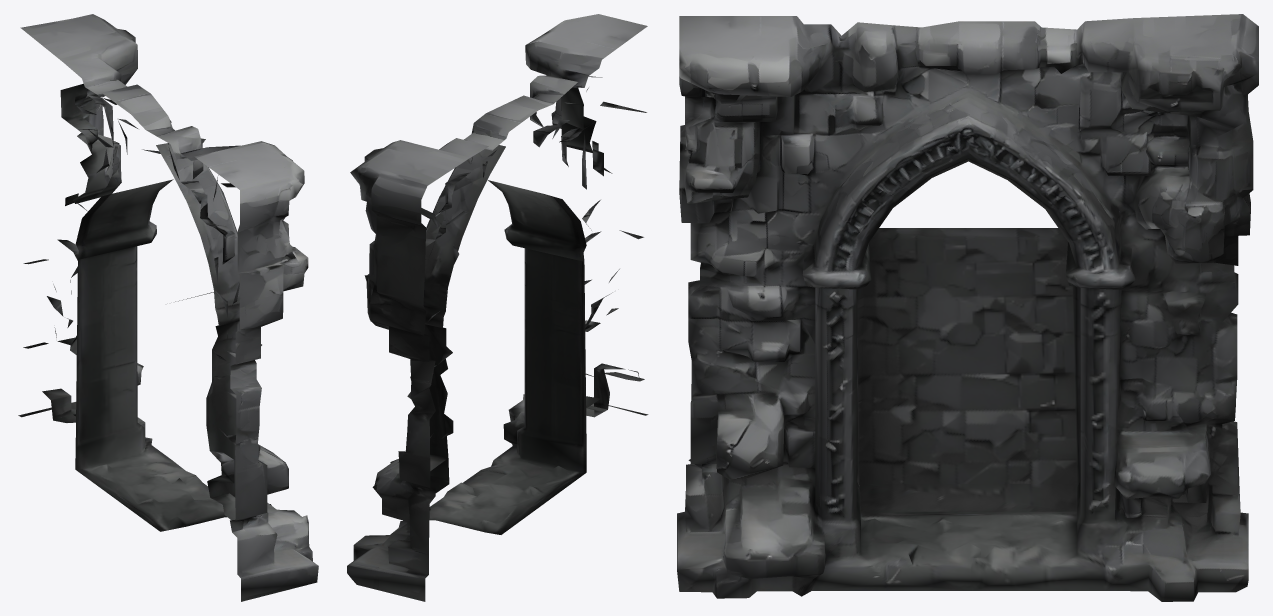
The model's file is ruined_arch.glb.
3 views of the same model, side by side, from view 1: azimuth 30°, elevation 25°; view 2: azimuth 150°, elevation 25°; view 3: azimuth 270°, elevation 25° (orthographic). The views are drawn at different scales.
Visible parts, largest first — view 1: tripo_node_d9e97f13-a6ae-4baf-bf6b-333b232bc07d; view 2: tripo_node_d9e97f13-a6ae-4baf-bf6b-333b232bc07d; view 3: tripo_node_d9e97f13-a6ae-4baf-bf6b-333b232bc07d.
Boxes of the visible parts, x1=… form: tripo_node_d9e97f13-a6ae-4baf-bf6b-333b232bc07d: x1=18, y1=14, x2=318, y2=601; tripo_node_d9e97f13-a6ae-4baf-bf6b-333b232bc07d: x1=347, y1=14, x2=648, y2=601; tripo_node_d9e97f13-a6ae-4baf-bf6b-333b232bc07d: x1=677, y1=14, x2=1258, y2=601.
Bounding box in the file's own units: 0.2676 × 0.998 × 0.9941.
1 material, 1 textured.
